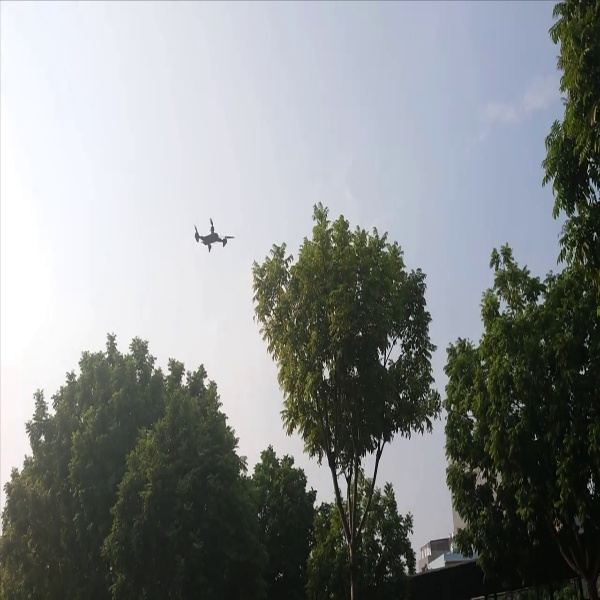drone: (189, 207, 238, 259)
